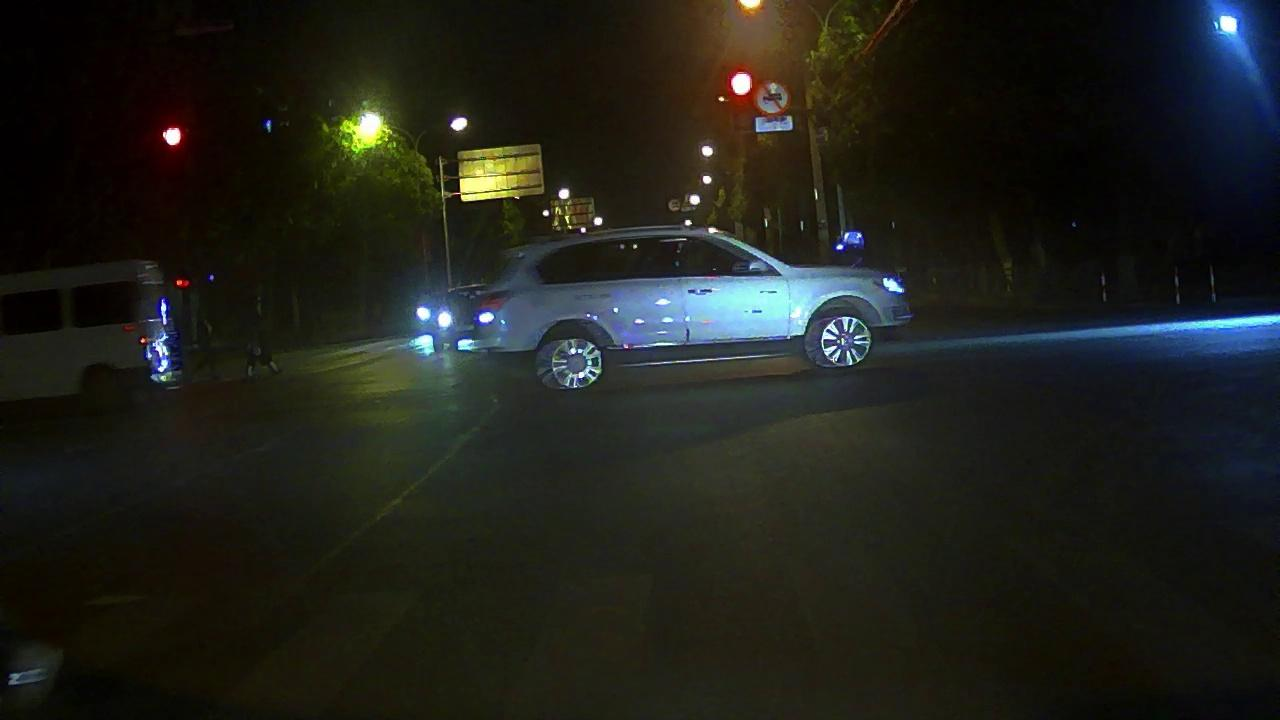traffic_light: (726, 66, 754, 98), (155, 122, 187, 149)
